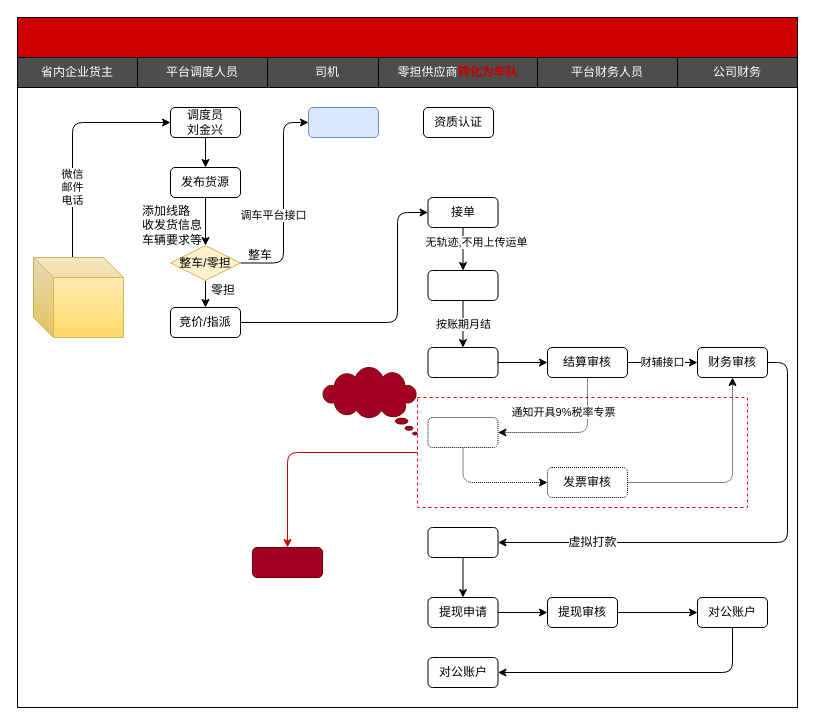
Image size: 815x725. Some labels were removed from this diagram. Here are the shapes that lost their labels. From the top down, the centre of each, then its label:
At pixel 407 37: "体系外线上业务流程".
At pixel 343 122: ".... 流程不变".
At pixel 78 297: "企业货主".
At pixel 462 285: "回单上传 承运凭证".
At pixel 462 362: "申请结算".
At pixel 370 400: "停止开票 由平台代开".
At pixel 462 432: "线下邮寄发票".
At pixel 287 562: "为司机代开3%税率发票".
At pixel 462 542: "平台账户".
